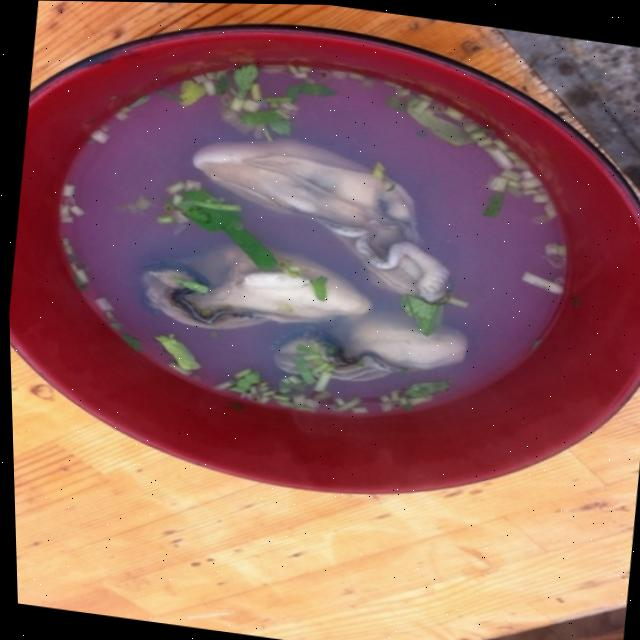汤锅炖物: (0, 0, 638, 523)
